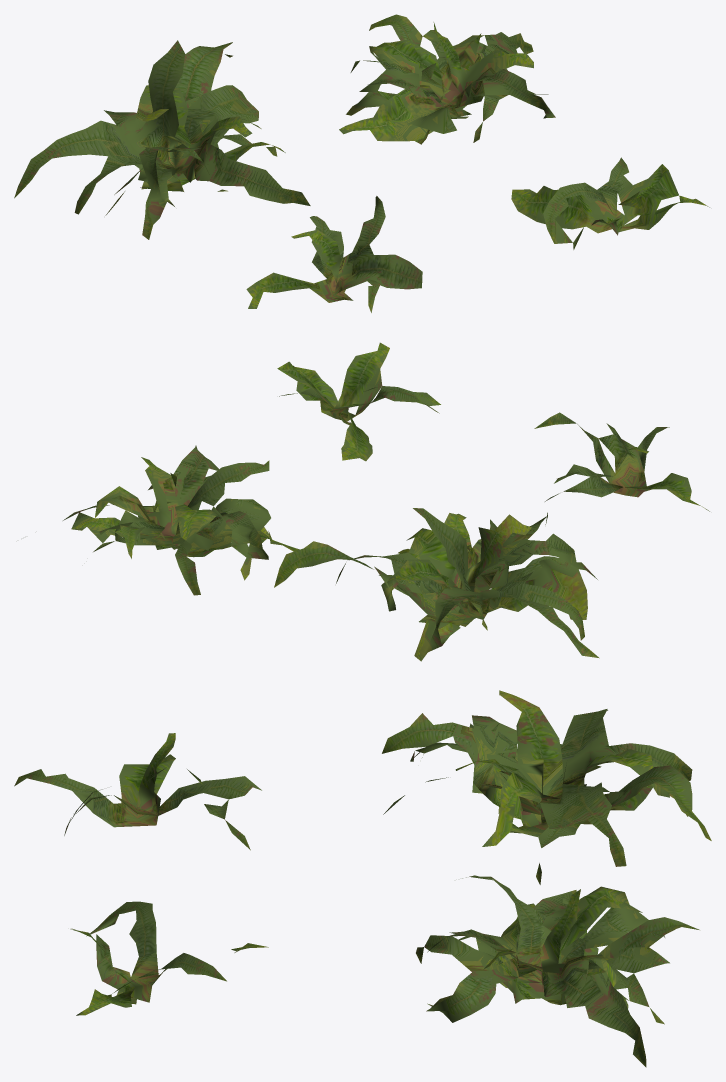
Rendered from fern_02.glb.
3 renders of one model, top to bottom at view 1: azimuth 30°, elevation 25°; view 2: azimuth 150°, elevation 25°; view 3: azimuth 270°, elevation 25°, orthographic. The views are drawn at different scales.
Parts seen in each view (by area): view 1: fern_02; view 2: fern_02; view 3: fern_02.
Part boxes in pixels (left/top/right/bottom): fern_02: left=14, top=14, right=709, bottom=312; fern_02: left=63, top=342, right=709, bottom=661; fern_02: left=14, top=690, right=711, bottom=1067.
Bounding box in the file's own units: 1.95 × 0.4062 × 1.71.
Materials: 1 (1 with a texture image).
